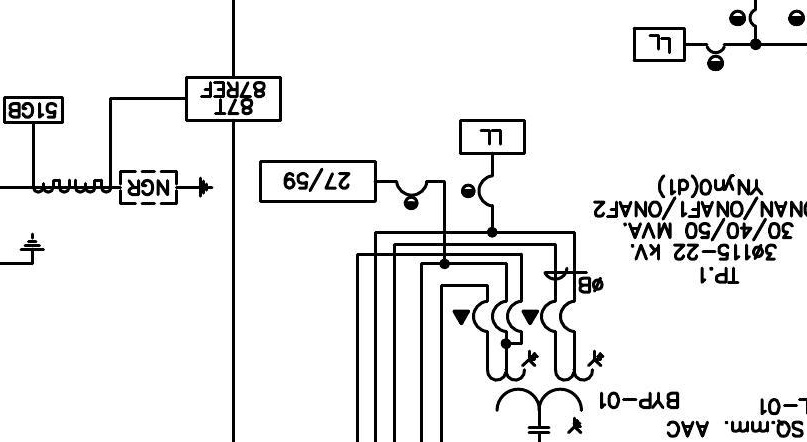115_cvt_3p: (485, 349, 605, 434)
LL: (459, 119, 526, 155), (633, 26, 686, 62)
NGR_future: (119, 169, 214, 206)
